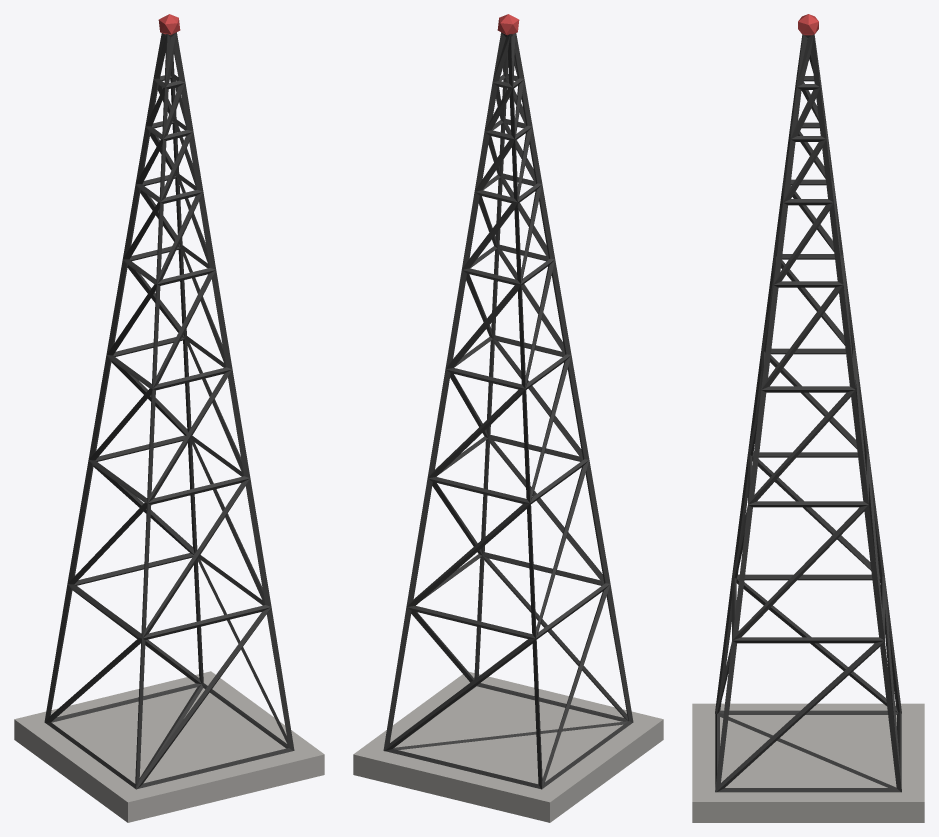
Rendered from HousePart_03.fbx.
3 views of the same model, side by side, from view 1: azimuth 30°, elevation 25°; view 2: azimuth 150°, elevation 25°; view 3: azimuth 270°, elevation 25° (orthographic). The views are drawn at different scales.
Visible parts, largest first — view 1: HousePart_03; view 2: HousePart_03; view 3: HousePart_03.
Boxes of the visible parts, box(x1,y1,x2,y2) form: HousePart_03: box(14, 14, 324, 822); HousePart_03: box(353, 14, 663, 822); HousePart_03: box(692, 14, 924, 822).
Bounding box in the file's own units: 2.53 × 9.14 × 2.53.
